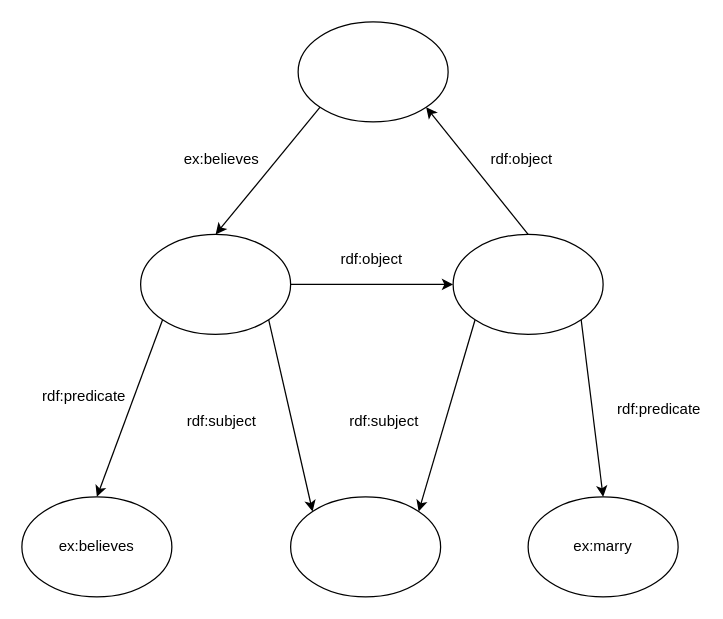
Some shapes in this 723 by 619 pixel diagram are drawn without their labels. Here are the shapes that lost their labels. From the top down, the centre of each, then its label:
At [372,71]: "ex:John".
At [365,546]: "ex:Mary".
